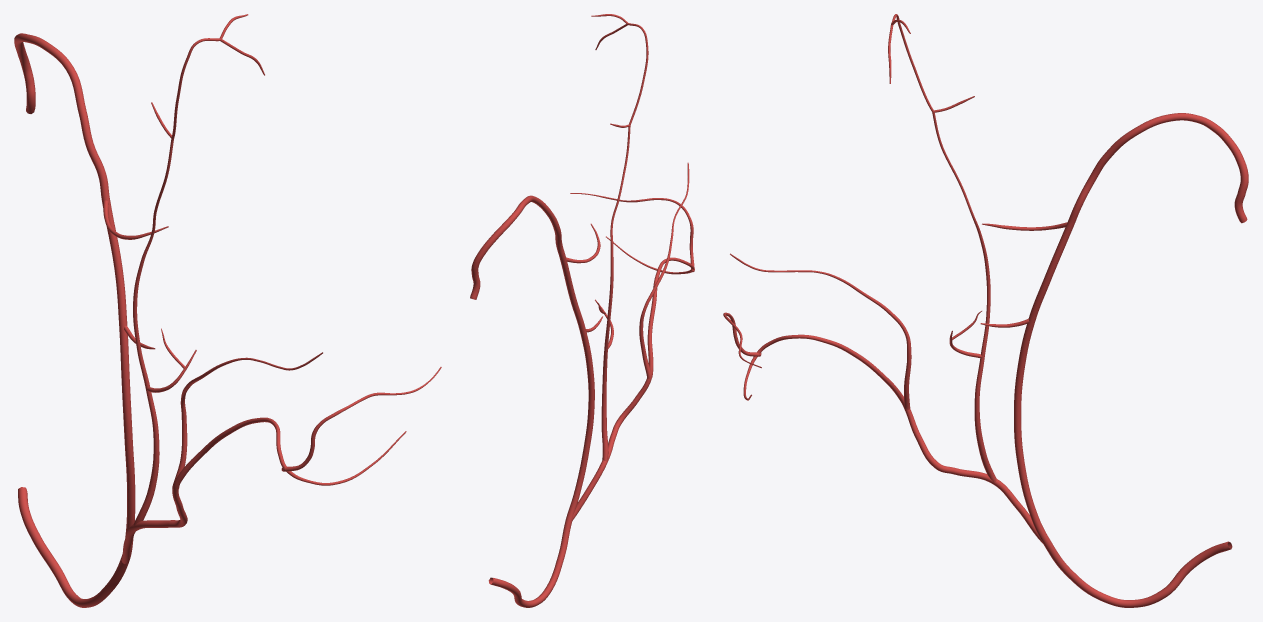
3 renders of one model, left to right at view 1: azimuth 30°, elevation 25°; view 2: azimuth 150°, elevation 25°; view 3: azimuth 270°, elevation 25°, orthographic. The views are drawn at different scales.
Parts seen in each view (by area): view 1: 左侧胼周动脉; view 2: 左侧胼周动脉; view 3: 左侧胼周动脉.
Part boxes in pixels (x1,y1,x2,y2): 左侧胼周动脉: (14, 14, 441, 607); 左侧胼周动脉: (470, 14, 694, 607); 左侧胼周动脉: (723, 14, 1248, 607).
Size of the model in its own units: 0.046 by 0.1568 by 0.1244.
